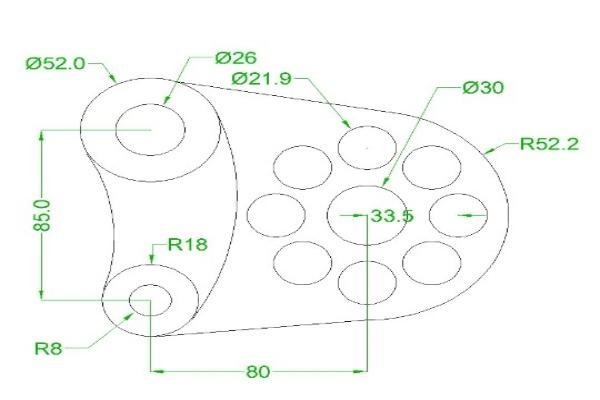dimensions: (15, 46, 88, 73), (455, 71, 510, 101), (228, 66, 297, 89), (517, 132, 586, 155), (164, 228, 212, 258), (212, 43, 263, 70), (369, 200, 418, 227), (27, 195, 56, 233), (243, 358, 274, 386), (28, 337, 65, 358)
